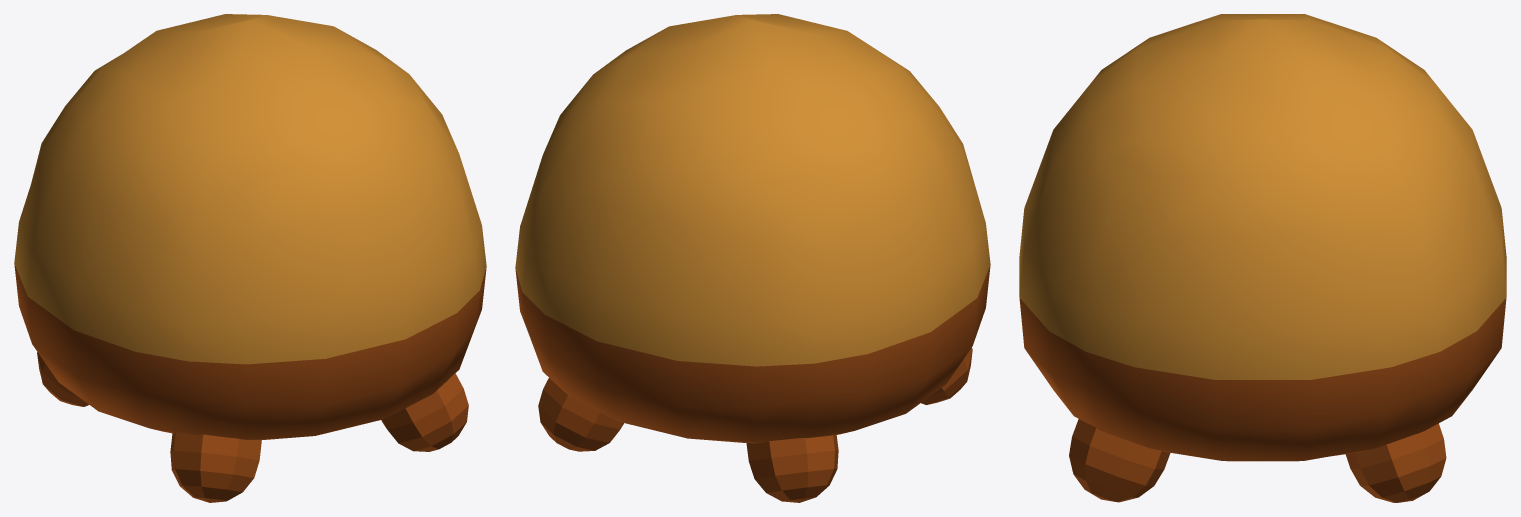
Rendered from model_monster.fbx.
The picture shows the model from 3 angles, left to right: view 1: azimuth 30°, elevation 25°; view 2: azimuth 150°, elevation 25°; view 3: azimuth 270°, elevation 25°; orthographic projection. The views are drawn at different scales.
Parts seen in each view (by area): view 1: body, hand_R, hand_L, foot_R; view 2: body, foot_R, foot_L, hand_R; view 3: body, hand_L, foot_L.
Boxes of the visible parts, x1=… form: body: x1=14, y1=14, x2=486, y2=439; hand_R: x1=170, y1=432, x2=261, y2=502; hand_L: x1=381, y1=373, x2=468, y2=451; foot_R: x1=37, y1=352, x2=88, y2=406; body: x1=515, y1=14, x2=990, y2=443; foot_R: x1=746, y1=435, x2=838, y2=502; foot_L: x1=538, y1=378, x2=623, y2=451; hand_R: x1=921, y1=347, x2=972, y2=404; body: x1=1019, y1=14, x2=1506, y2=461; hand_L: x1=1069, y1=419, x2=1170, y2=502; foot_L: x1=1345, y1=423, x2=1446, y2=502.
Bounding box in the file's own units: 196 × 189 × 196.
